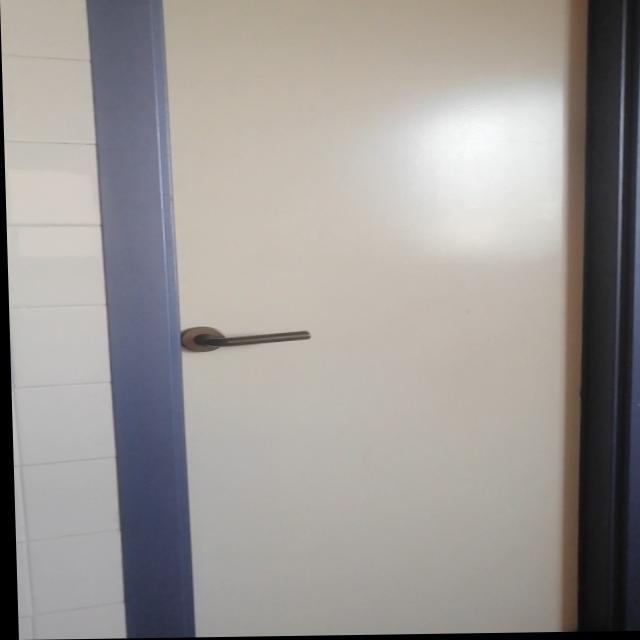door_handle: (186, 331, 314, 349)
